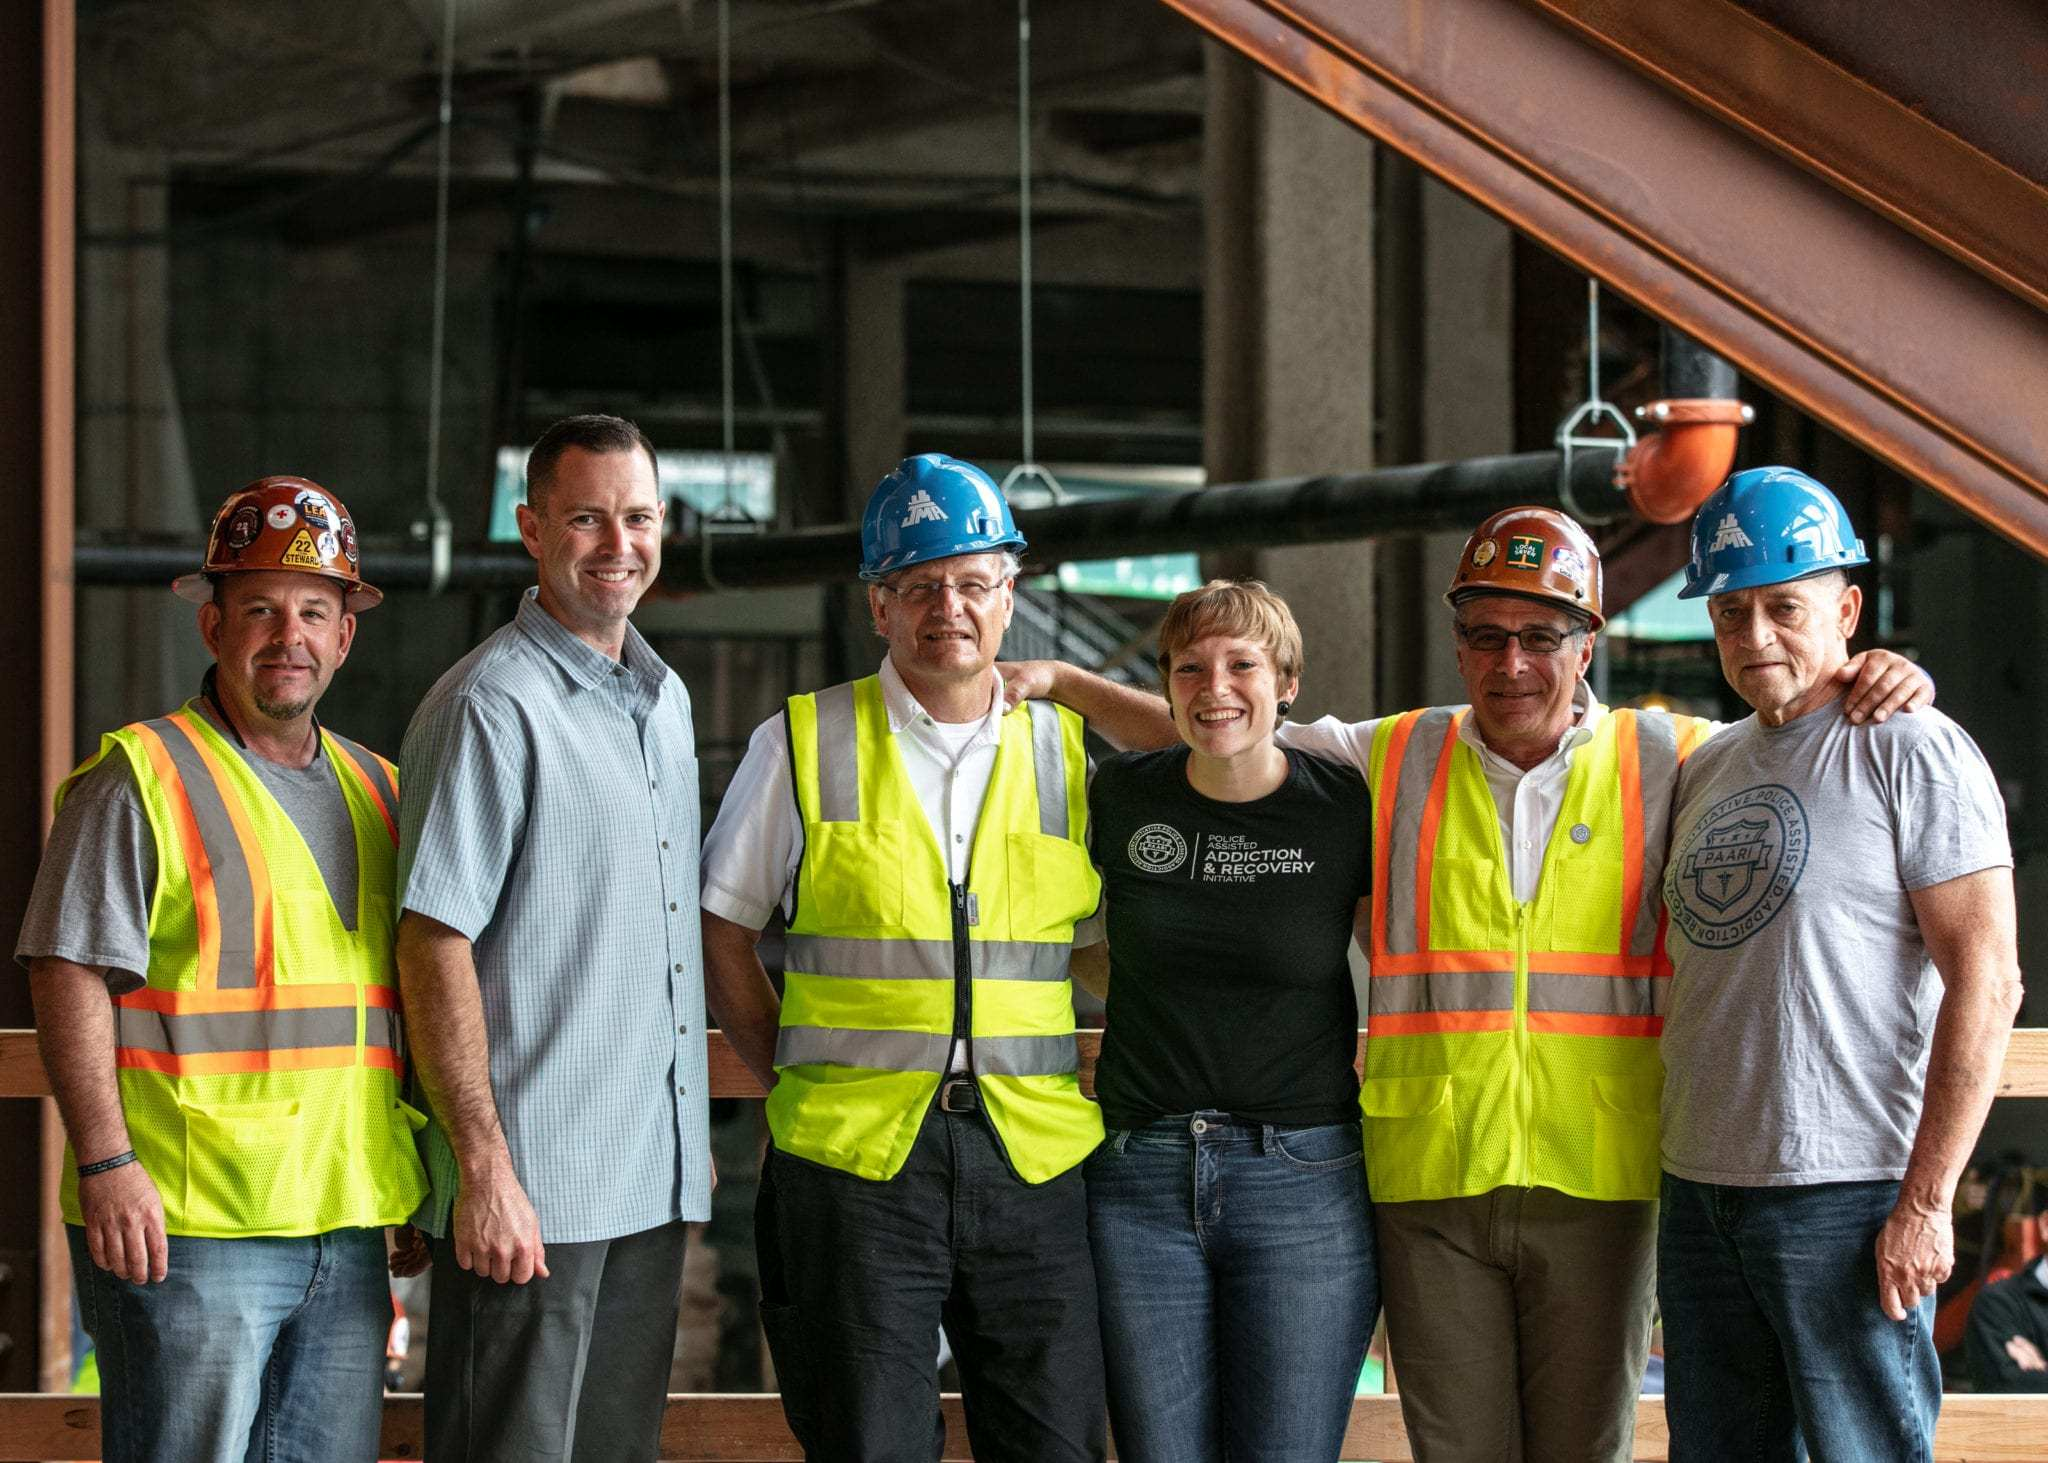hard hat: (161, 465, 391, 614), (1679, 464, 1871, 602), (856, 445, 1029, 579), (1443, 502, 1608, 632)
high-vis: (52, 695, 421, 1235), (1322, 698, 1701, 1208), (783, 670, 1108, 1172)
